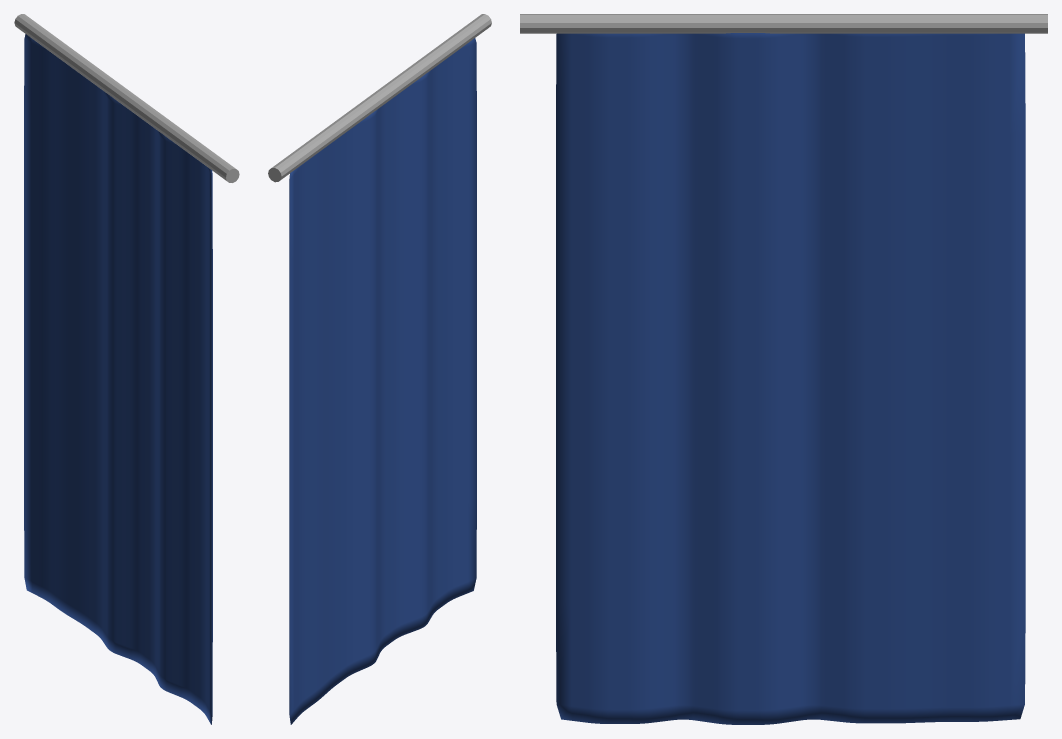
The model's file is Rod.fbx.
The picture shows the model from 3 angles, left to right: view 1: azimuth 30°, elevation 25°; view 2: azimuth 150°, elevation 25°; view 3: azimuth 270°, elevation 25°; orthographic projection. The views are drawn at different scales.
Parts seen in each view (by area): view 1: Cloth, Rod; view 2: Cloth, Rod; view 3: Cloth, Rod.
Part boxes in pixels (x1,y1,x2,y2): Cloth: (24,34,212,724); Rod: (14,14,239,182); Cloth: (289,38,476,724); Rod: (268,14,491,182); Cloth: (556,33,1025,724); Rod: (520,14,1047,33).
Bounding box in the file's own units: 7.31 × 288 × 195.
